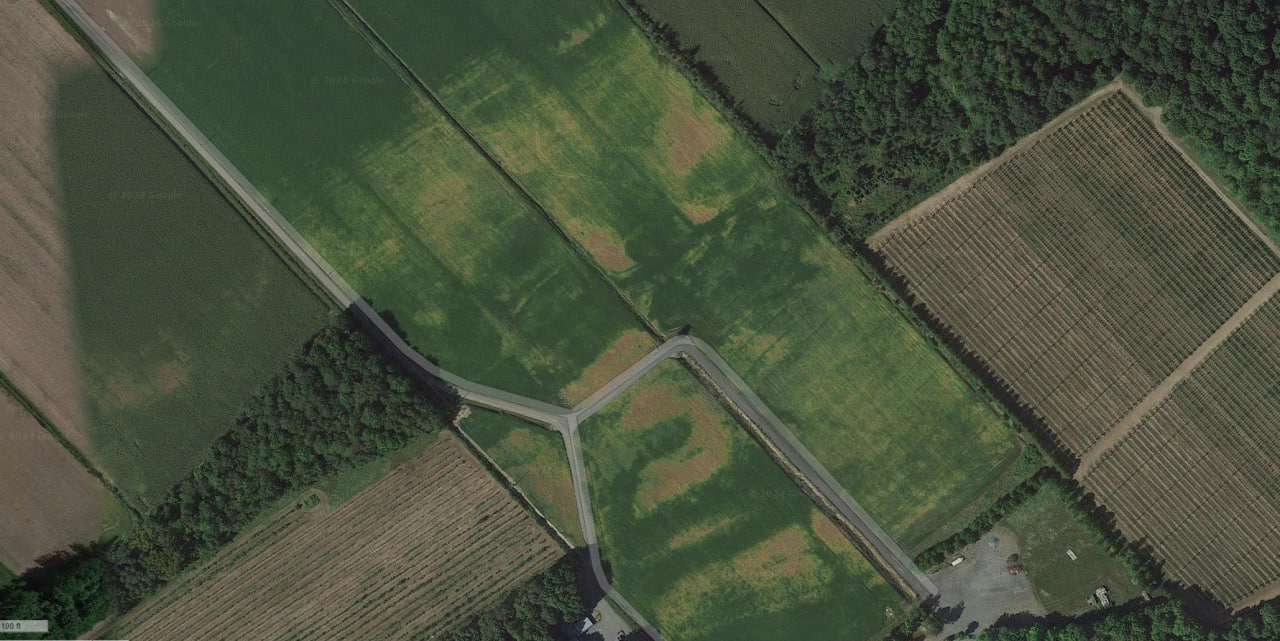Sown field: (354, 0, 1018, 549), (149, 0, 653, 405), (53, 66, 328, 511), (581, 361, 903, 641), (639, 0, 896, 133), (462, 411, 580, 542)
field: (869, 84, 1280, 609), (106, 433, 564, 641), (90, 631, 100, 641), (89, 463, 97, 471), (95, 113, 100, 123)
